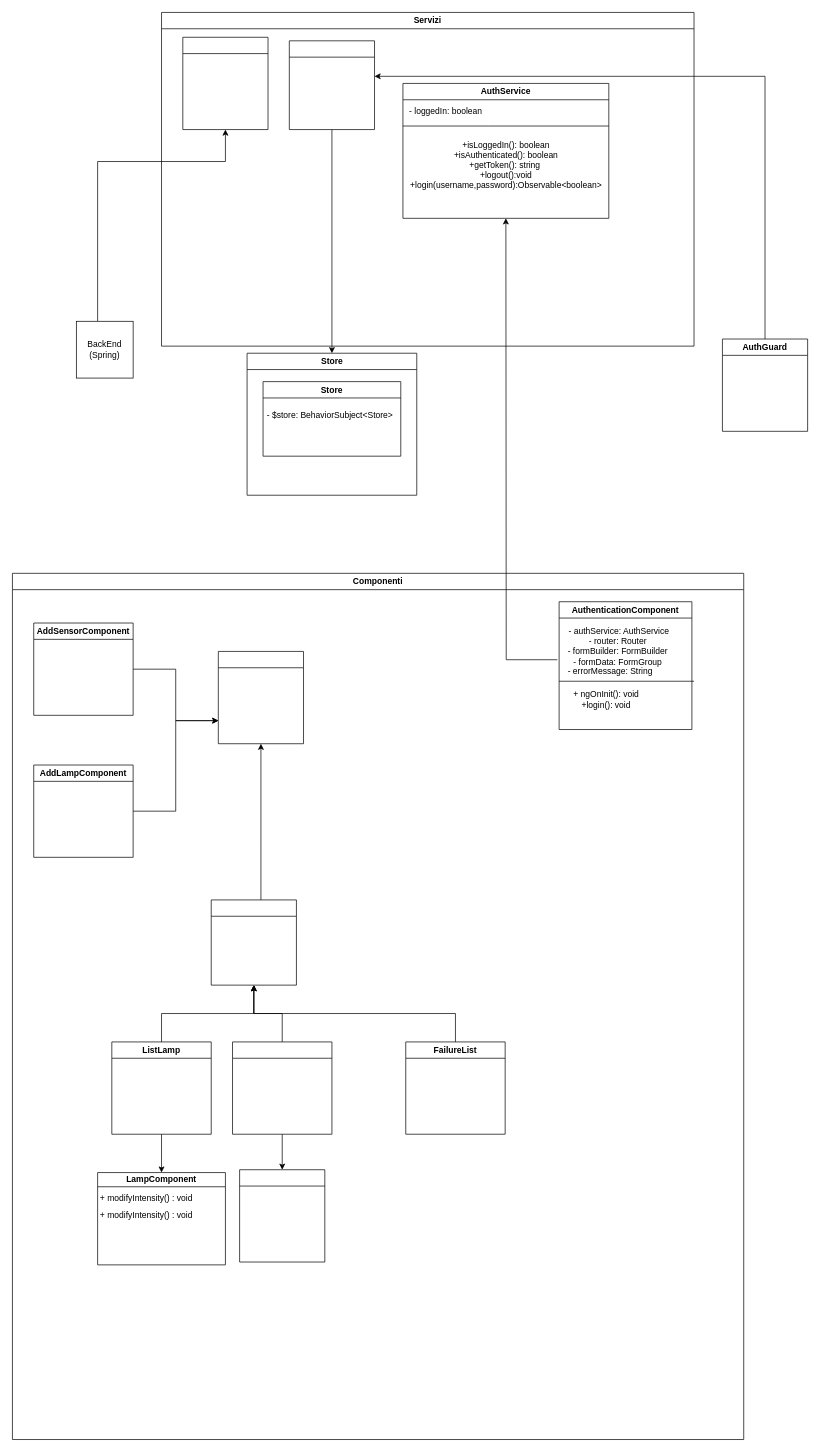
Image size: 820x1452. Some labels were removed from this diagram. The centre of each missing label's shape, as x and y in pixels:
ApiService: the point at 225,83
AppService: the point at 332,85
ListComponent: the point at 253,942
ListSensor: the point at 282,1087
PrivateArea: the point at 261,697
SensorComponent: the point at 282,1215
